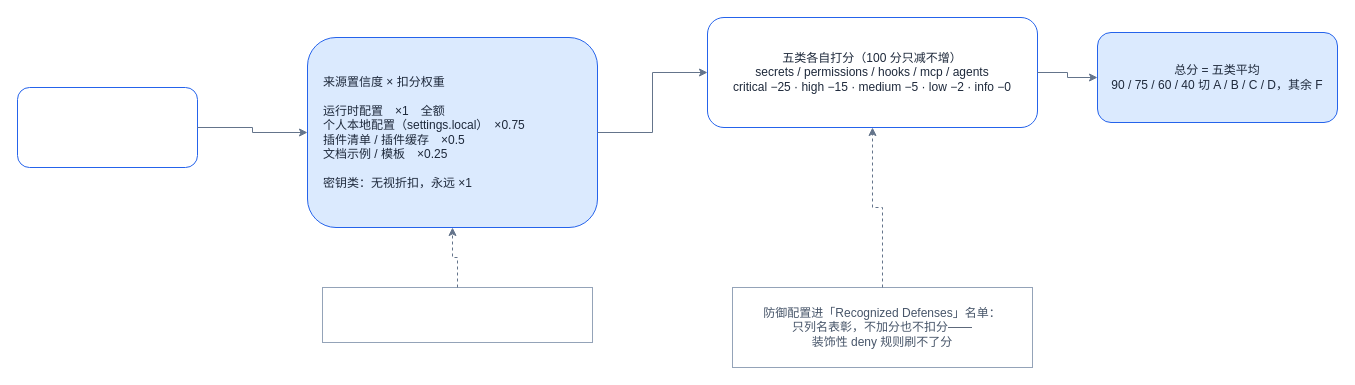
This 1355x385 diagram has some shape labels left out. Here are the shapes that lost their labels. From the top down, the centre of each, then its label:
the point at 107,127: 一条 finding 它来自什么性质的文件？
the point at 457,314: 模板文件另设封顶： 每个文件每一类最多扣 10 分
